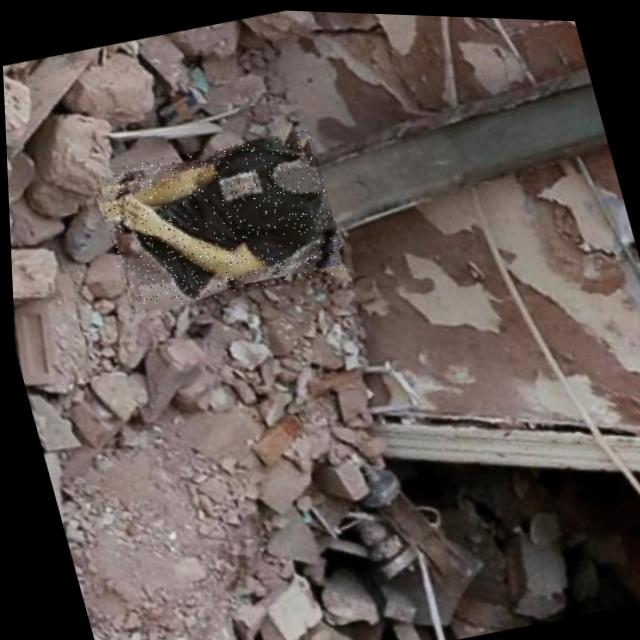Person in Rubble: (88, 120, 346, 319)
